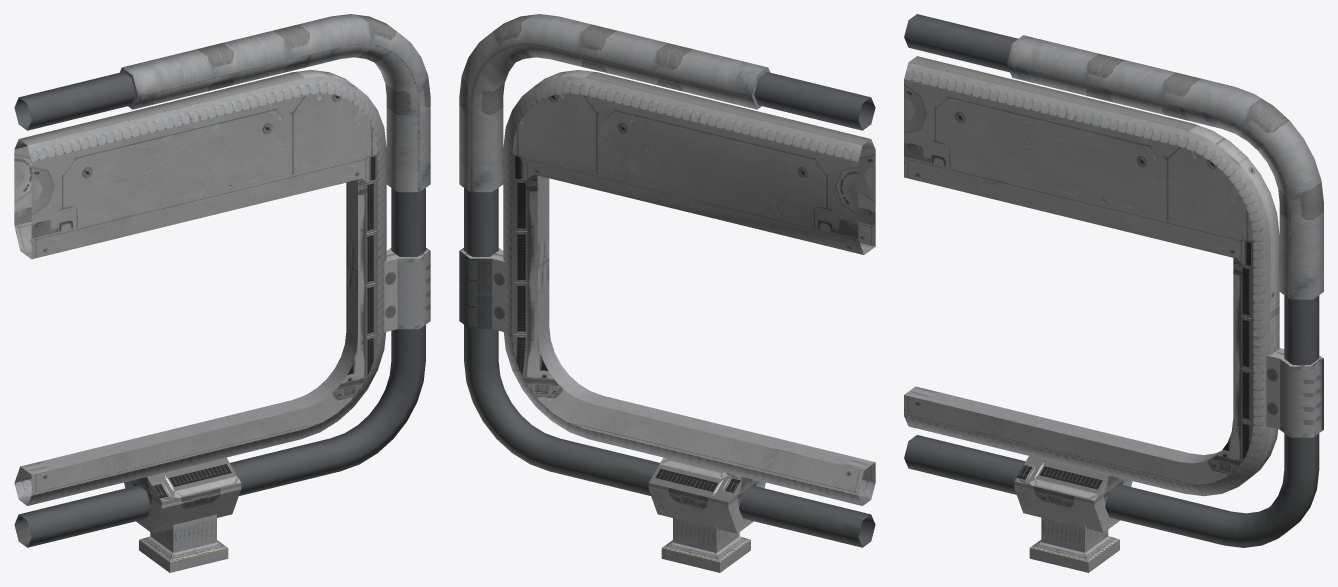
File: SM_Rail1.fbx
3 renders of one model, left to right at view 1: azimuth 30°, elevation 25°; view 2: azimuth 150°, elevation 25°; view 3: azimuth 330°, elevation 25°, orthographic.
Parts seen in each view (by area): view 1: SM_Rail1_LOD0; view 2: SM_Rail1_LOD0; view 3: SM_Rail1_LOD0.
Part boxes in pixels (bbox=[...]): SM_Rail1_LOD0: bbox=[14, 14, 430, 572]; SM_Rail1_LOD0: bbox=[459, 14, 875, 572]; SM_Rail1_LOD0: bbox=[904, 14, 1323, 572].
Bounding box in the file's own units: 101 × 16.5 × 119.
2 materials, 2 textured.
